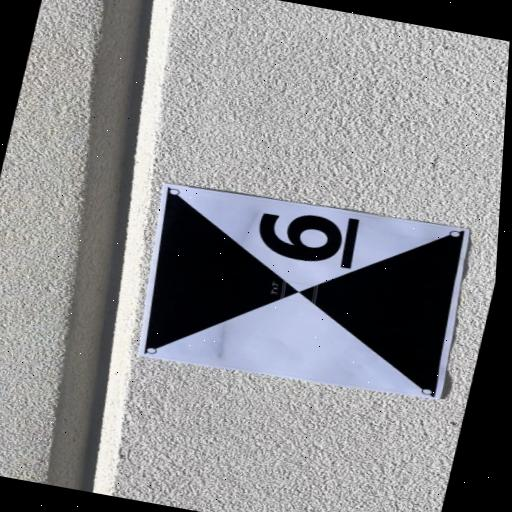target6: (135, 181, 471, 400)
